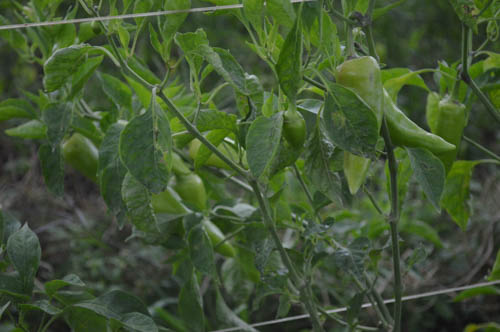ChiliPepper: (150, 196, 228, 256), (380, 95, 455, 155), (338, 61, 369, 196), (432, 95, 459, 164), (64, 137, 100, 180), (275, 117, 306, 155), (171, 179, 209, 207)
